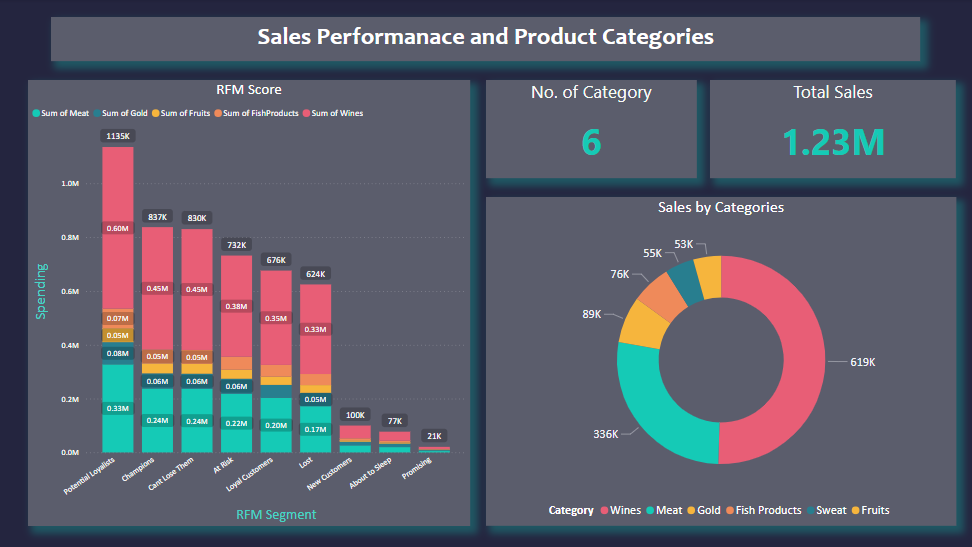

The page's visual inventory and layout, read from the dashboard file:
{"tool":"powerbi","page":{"name":"Category","canvas":[1280,720],"ordinal":2},"visuals":[{"type":"textbox","box":[68.8,23.4,1142.4,57.8],"z":0},{"type":"card","title":"No. of Category","fields":{"Values":["CountNonNull(category_df.Category)"]},"box":[640,106,276.6,129.4],"z":1000},{"type":"card","title":"Total Sales","fields":{"Values":["Sum(category_df.Column1)"]},"box":[934.5,106,323.4,129.4],"z":2000},{"type":"columnChart","title":"RFM Score","fields":{"Category":["rfm.Segment"],"Y":["Sum(df.Meat)","Sum(df.Gold)","Sum(df.Fruits)","Sum(df.FishProducts)","Sum(df.Wines)"]},"box":[38.5,106,580.8,586.3],"z":3000},{"type":"donutChart","title":"Sales by Categories","fields":{"Category":["category_df.Category"],"Y":["Sum(category_df.Column1)"]},"box":[640,260.1,618,432.2],"z":4000}]}

Visuals, with their boxes in screenshot pixels (x1, y1, x2, y2), scaled from the page's 1280x720 canvas onto the 972x547 screenshot:
textbox: box(52, 18, 920, 62)
"No. of Category" card: box(486, 81, 696, 179)
"Total Sales" card: box(710, 81, 955, 179)
"RFM Score" columnChart: box(29, 81, 470, 526)
"Sales by Categories" donutChart: box(486, 198, 955, 526)
